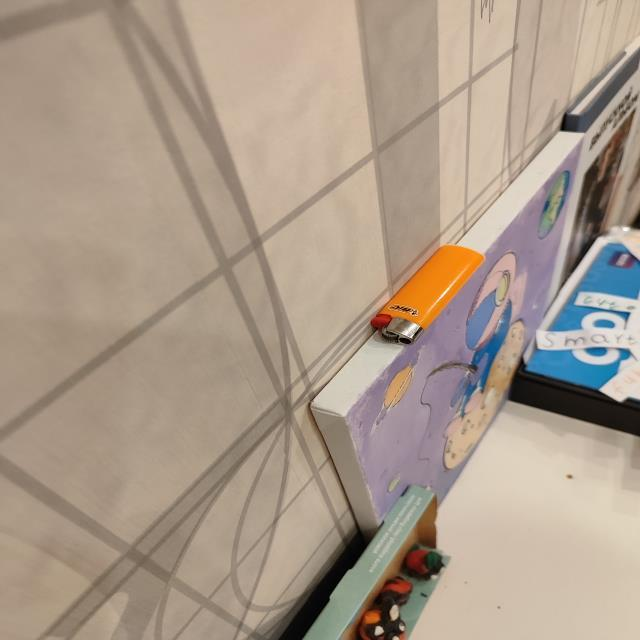lighter: (371, 245, 483, 343)
